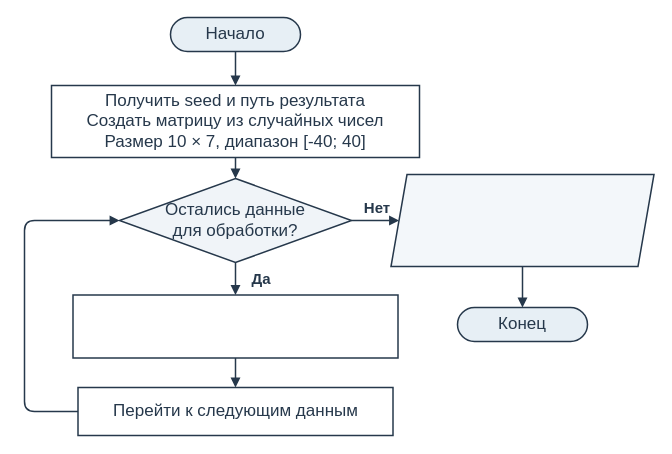
The diagram is 672 pixels wide and 454 high, and some of its shapes have lost their labels. Each missing label, with the centre of its shape:
Вывести исходную и преобразованную матрицы и итог задачи Записать вывод в файл: point 522,220
Сравнить число с минимумом и максимумом: point 235,326
